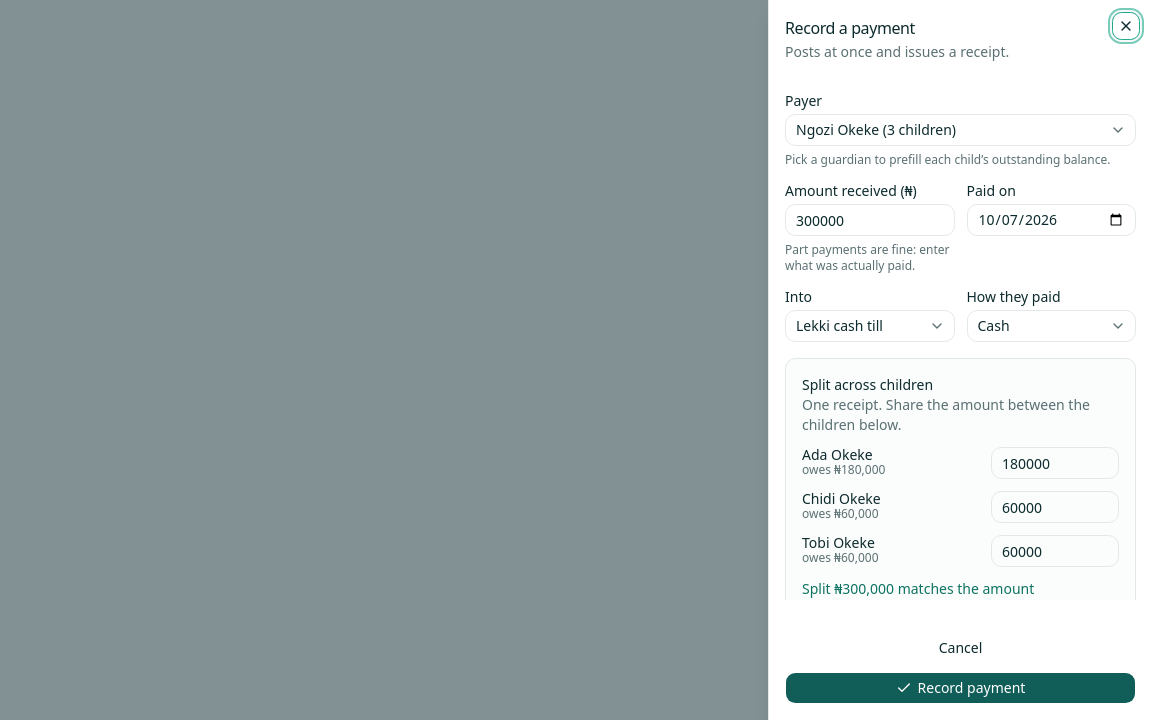
Test case: RecordPaymentSheet › puts an overpayment on the first child and says it is kept as credit
Replace the text in the field labelled "Amount received (₦)" with "320000" at (870, 220), box [785, 204, 954, 236]
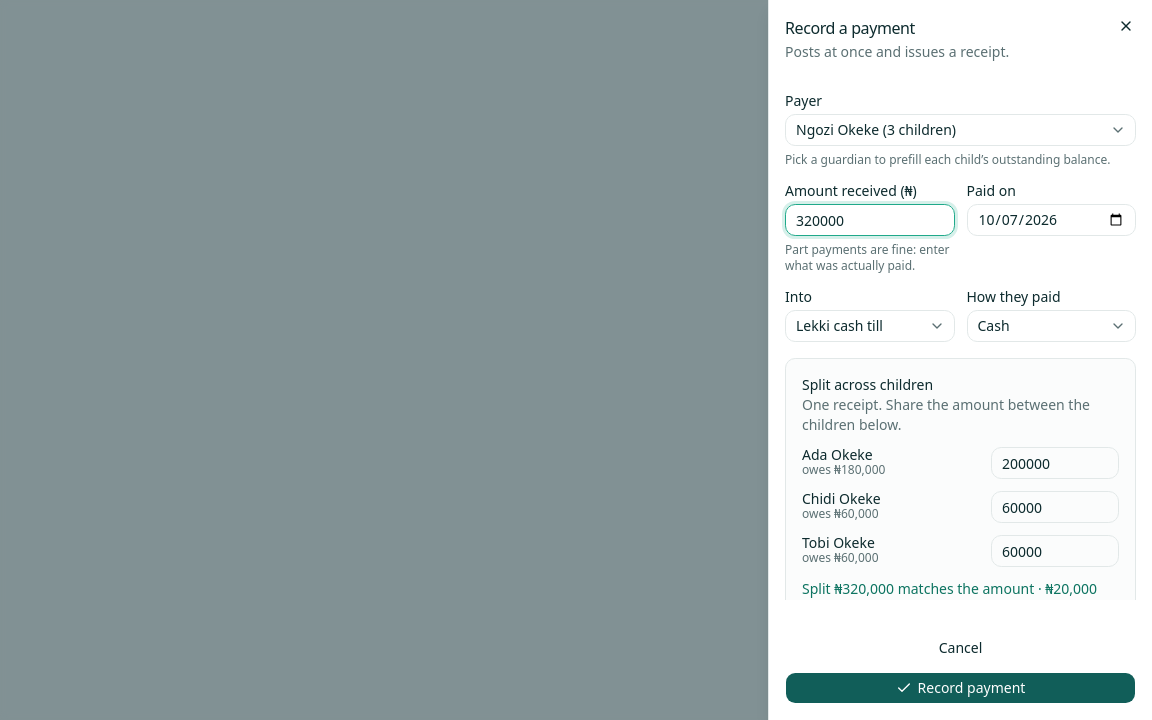
Expected: the field named "Amount for Ada Okeke" holds "200000", [991, 447, 1119, 479]
